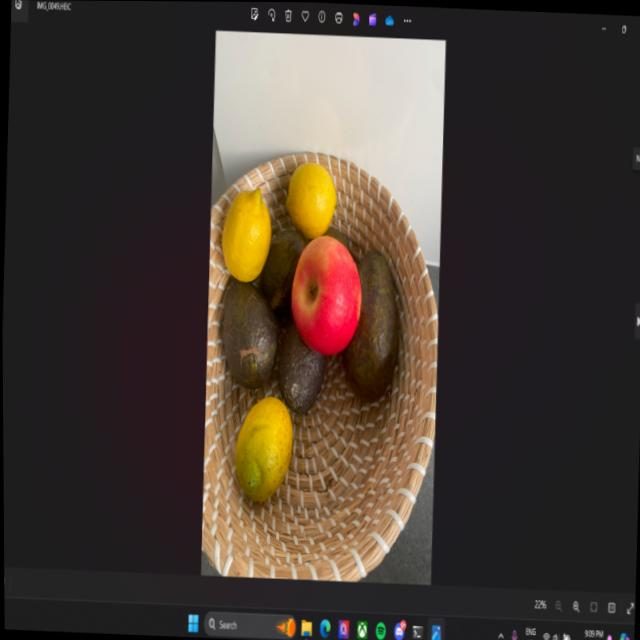Apple: (291, 234, 361, 353)
